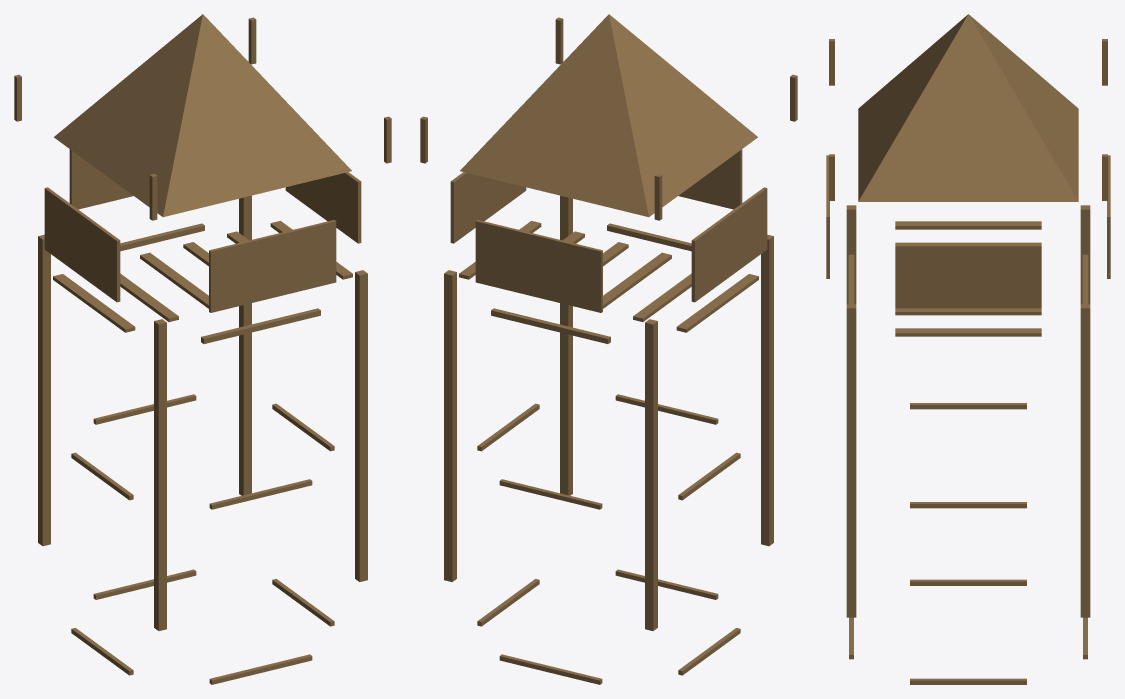
File: watchtower.glb
3 views of the same model, side by side, from view 1: azimuth 30°, elevation 25°; view 2: azimuth 150°, elevation 25°; view 3: azimuth 270°, elevation 25° (orthographic).
Parts seen in each view (by area): view 1: watchtower; view 2: watchtower; view 3: watchtower.
Part boxes in pixels (x1=…): watchtower: x1=14, y1=14, x2=391, y2=684; watchtower: x1=420, y1=14, x2=797, y2=684; watchtower: x1=826, y1=14, x2=1110, y2=684.
Bounding box in the file's own units: 1.46 × 3.51 × 1.46.
